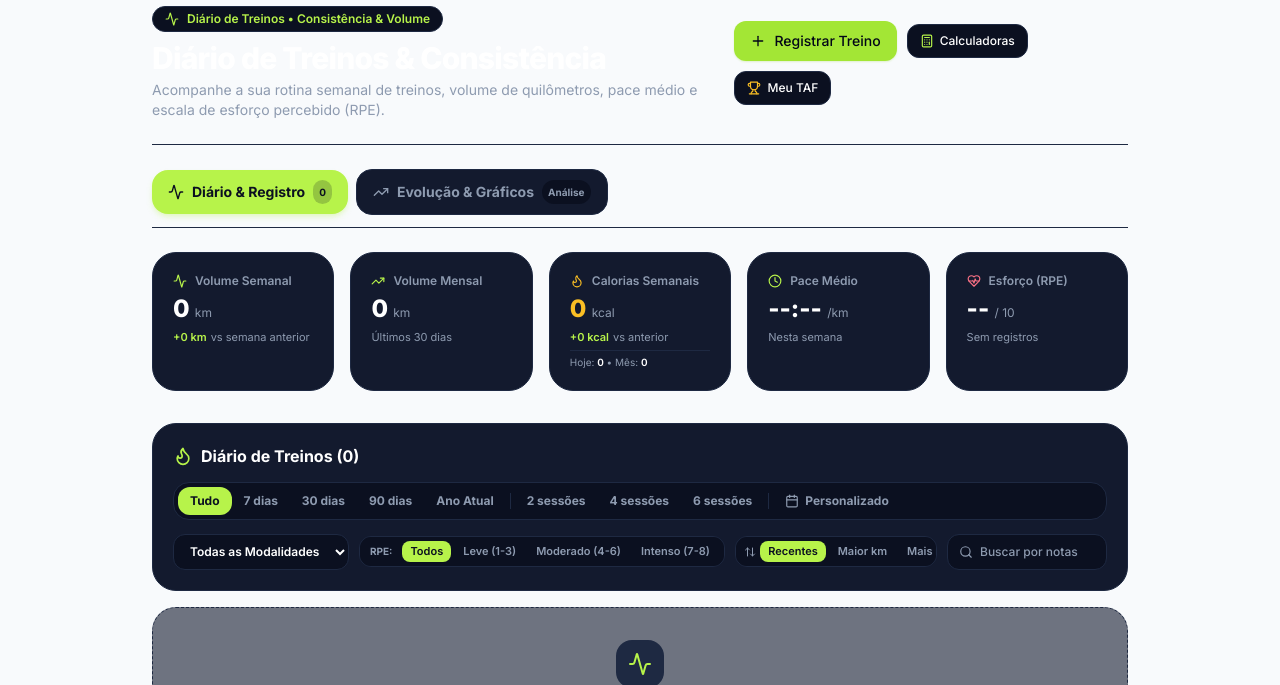
it: Diário de Treinos - CRUD Completo (RPE, Peso, Splits e Filtros) › exibe mensagem de erro e não reseta campos se a API do Supabase falhar ao salvar treino
Step 1. Click the button "Registrar Treino" → [816, 41], box 734,21 -> 897,61
(page scrolled)
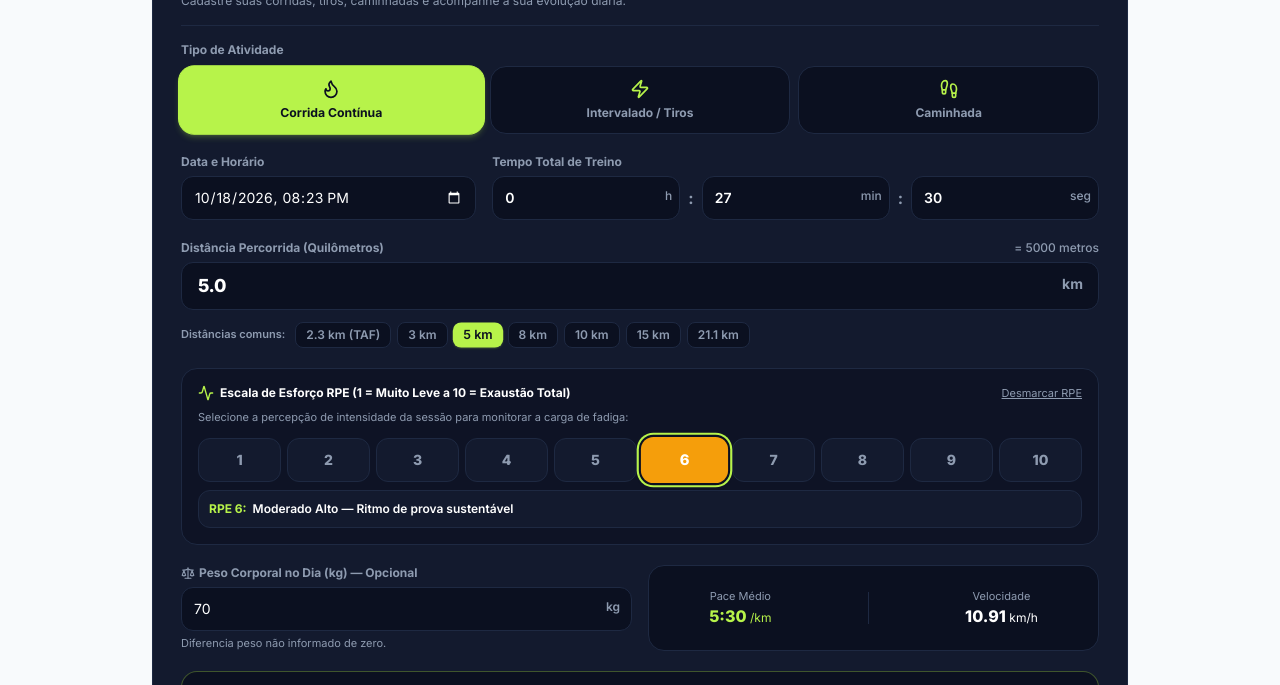
Step 2. Click the button "5 km" → [478, 334], box 452,322 -> 503,347
(page scrolled)
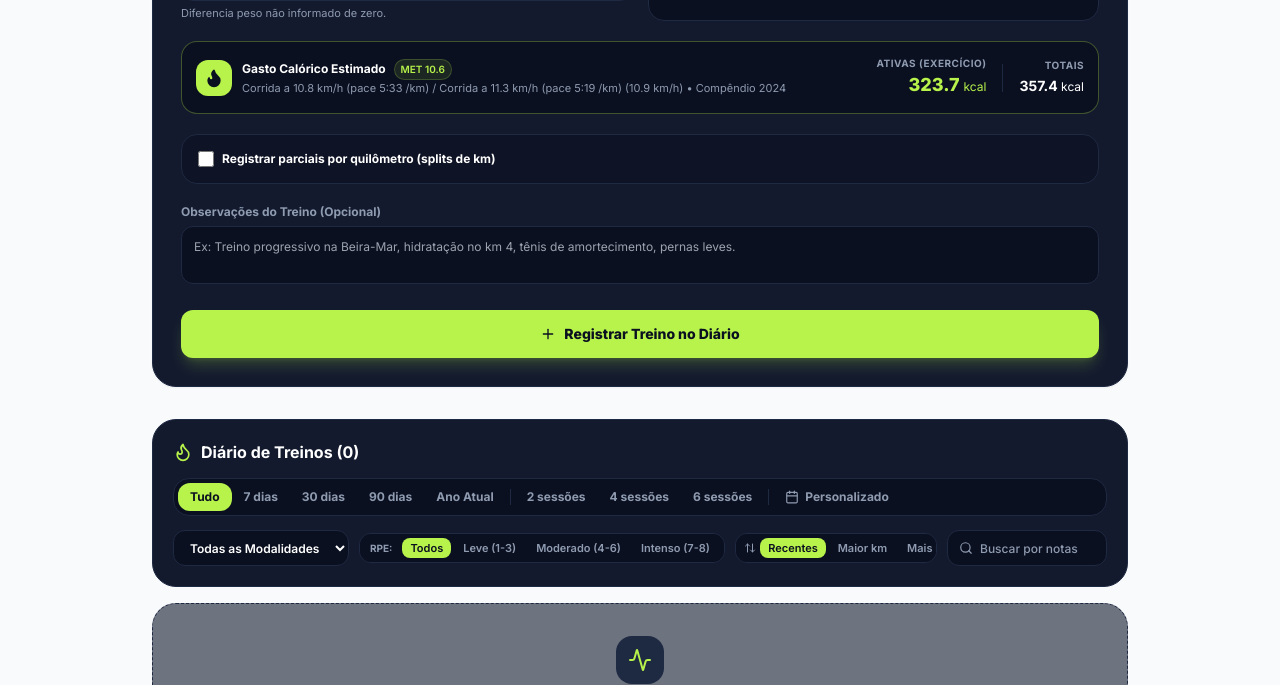
Step 3. Click the button "Registrar Treino no Diário" → [640, 334], box 181,310 -> 1099,358
(page scrolled)
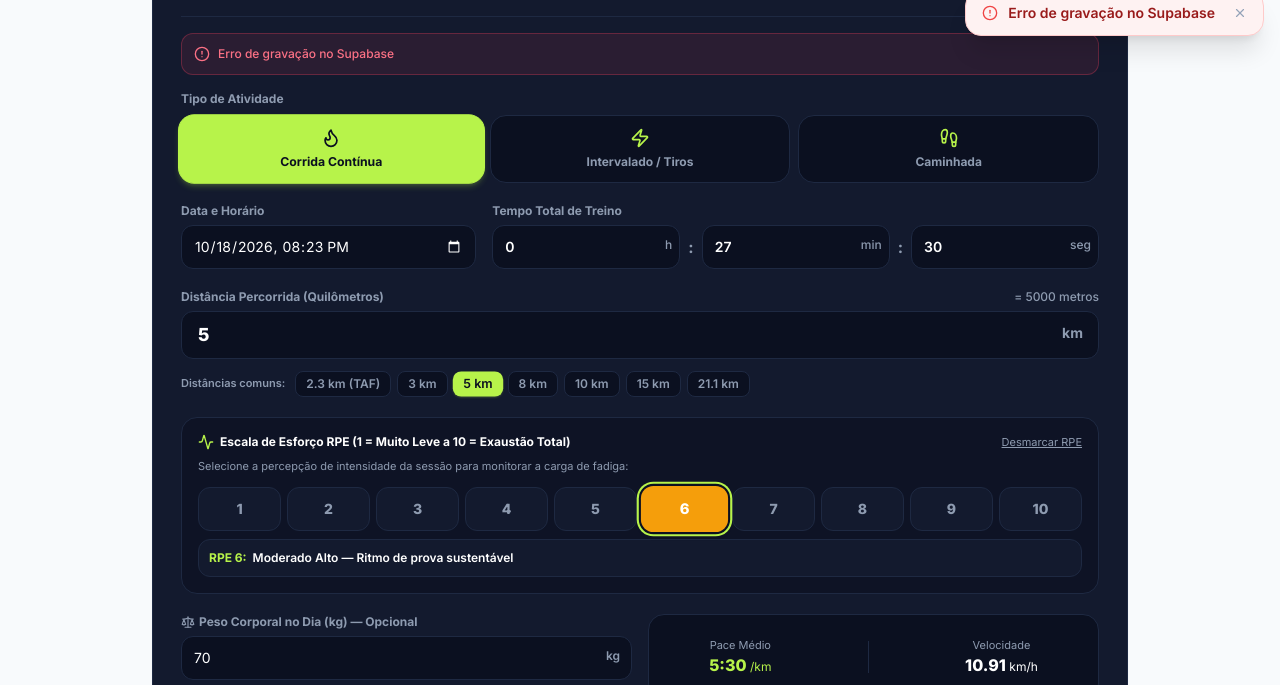
Expected: the field labelled "Distância Percorrida (Quilômetros)" holds "5", 181,310 -> 1099,358
Expected: the element with test id "form-error-message" reads "Erro de gravação no Supabase", 218,46 -> 394,60
Expected: the element with test id "toast-notification" reads "Erro de gravação no Supabase", 1008,4 -> 1215,21
